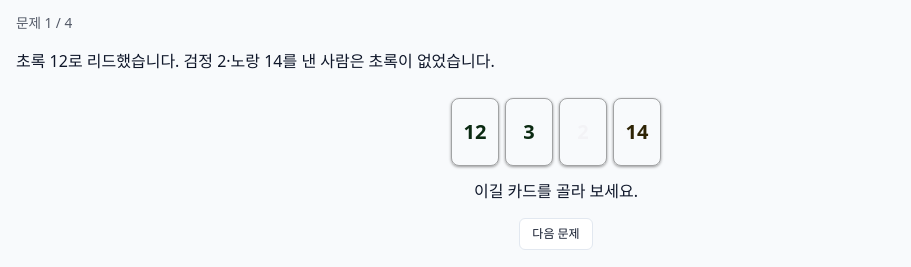
Scenario: TrickQuiz › 정답을 고르면 정답, 오답이면 정답 카드를 알려 준다 (Q1 — 검정 으뜸)
Step 1. Click the button named "검정 2" → (583, 132), box top-left (559, 98), bottom-right (607, 166)
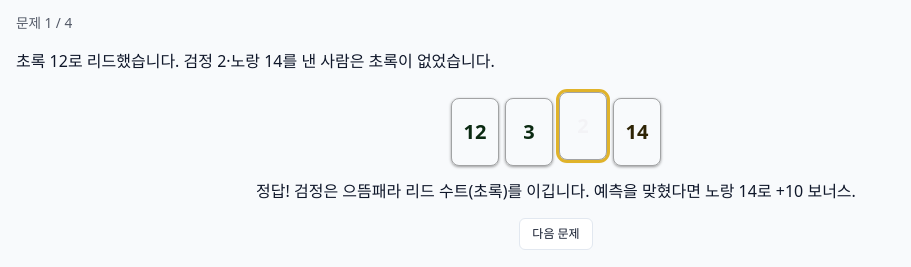
Expected: the message shows "정답!", top-left (256, 180), bottom-right (856, 202)
Expected: the message shows "+10", top-left (256, 180), bottom-right (856, 202)
Step 2. Click the button named "노랑 14" → (637, 132), box top-left (613, 98), bottom-right (661, 166)
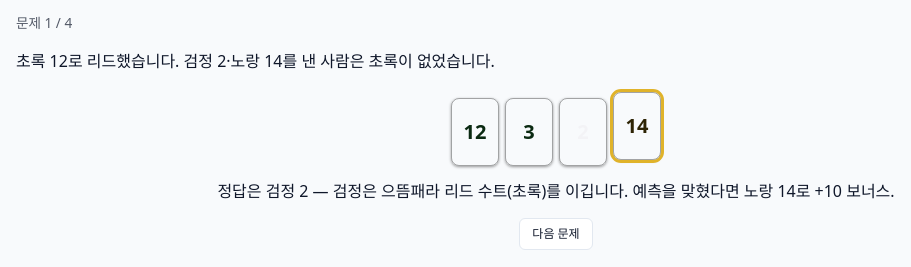
Expected: the message shows "정답은 검정 2", top-left (217, 180), bottom-right (895, 202)
